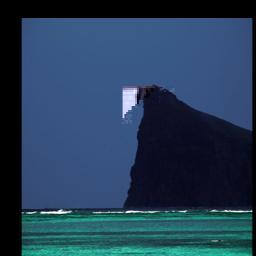Crow: (123, 86, 178, 256)
